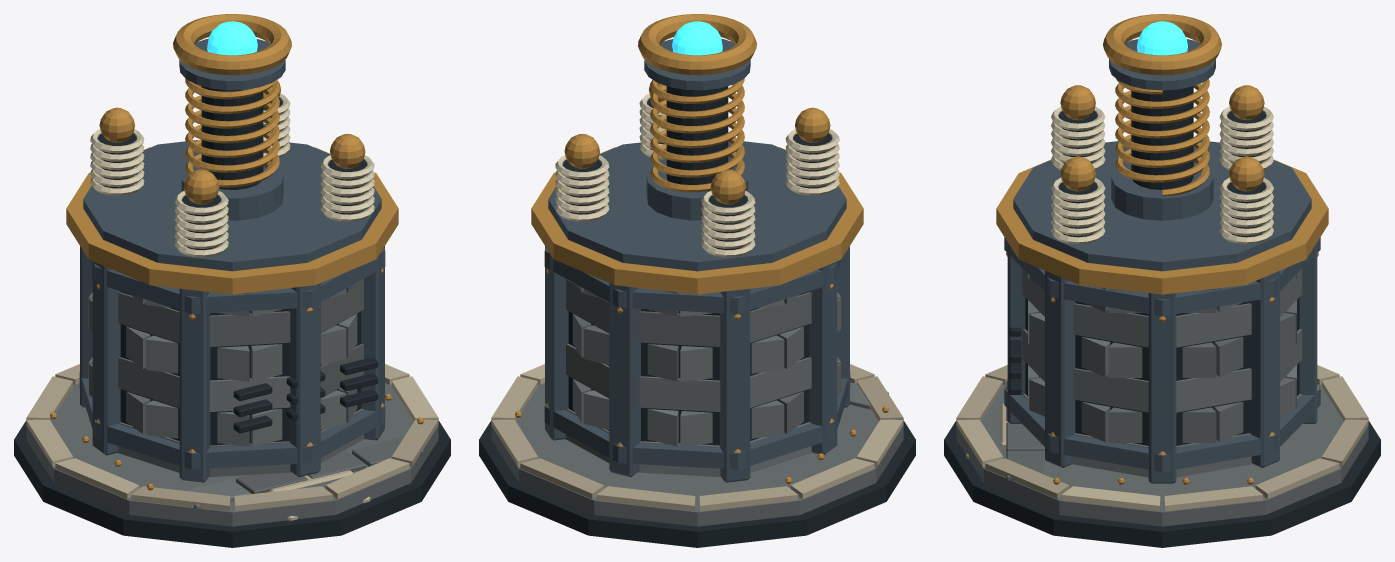
The model's file is lightning__corrente__L05.glb.
3 renders of one model, left to right at view 1: azimuth 30°, elevation 25°; view 2: azimuth 150°, elevation 25°; view 3: azimuth 270°, elevation 25°, orthographic.
Parts seen in each view (by area): view 1: structure, weapon; view 2: structure, weapon; view 3: structure, weapon.
Boxes of the visible parts, x1,y1,x2,y2 form: structure: [14, 80, 450, 547]; weapon: [173, 14, 291, 220]; structure: [479, 83, 915, 547]; weapon: [638, 14, 756, 220]; structure: [944, 85, 1380, 547]; weapon: [1103, 14, 1221, 220].
Bounding box in the file's own units: 0.8624 × 0.9416 × 0.8624.
